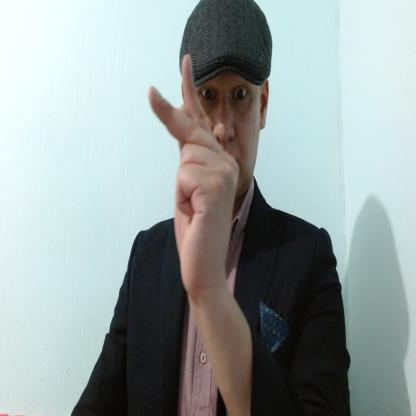P: (146, 51, 240, 293)
